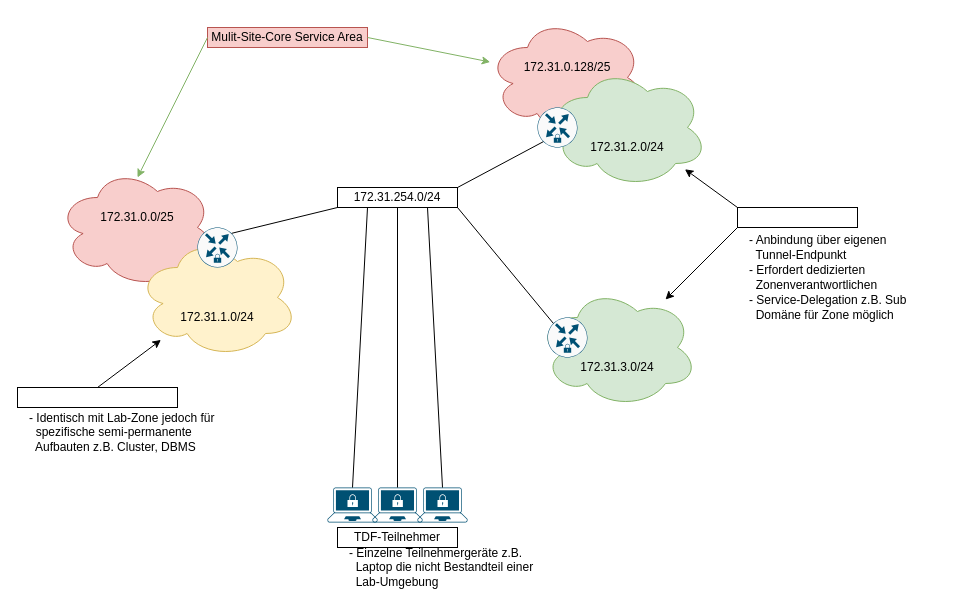
This 955x606 diagram has some shape labels left out. Here are the shapes that lost their labels. From the top down, the centre of each, then its label:
At (797,217): "Lab-Zone (green)".
At (97,397): "Dedizierte Lab-Zone (yellow)".
